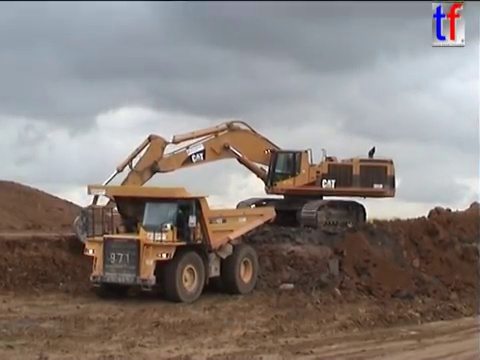excavator: (70, 118, 398, 248)
truck: (80, 182, 277, 304)
